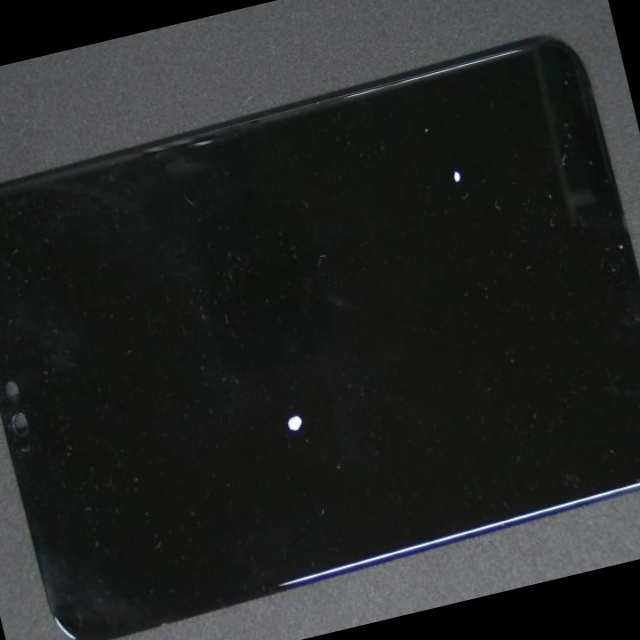stain: (70, 156, 475, 640), (166, 2, 640, 313)
